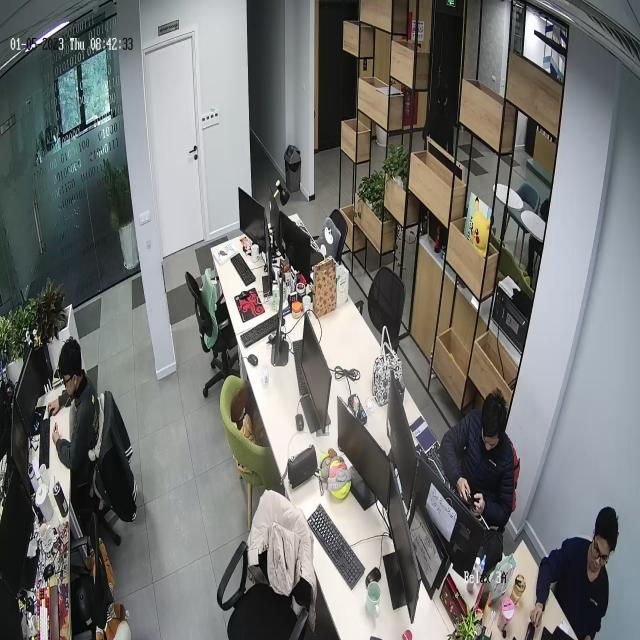person: (524, 506, 619, 640), (438, 388, 515, 539), (46, 337, 103, 488)
